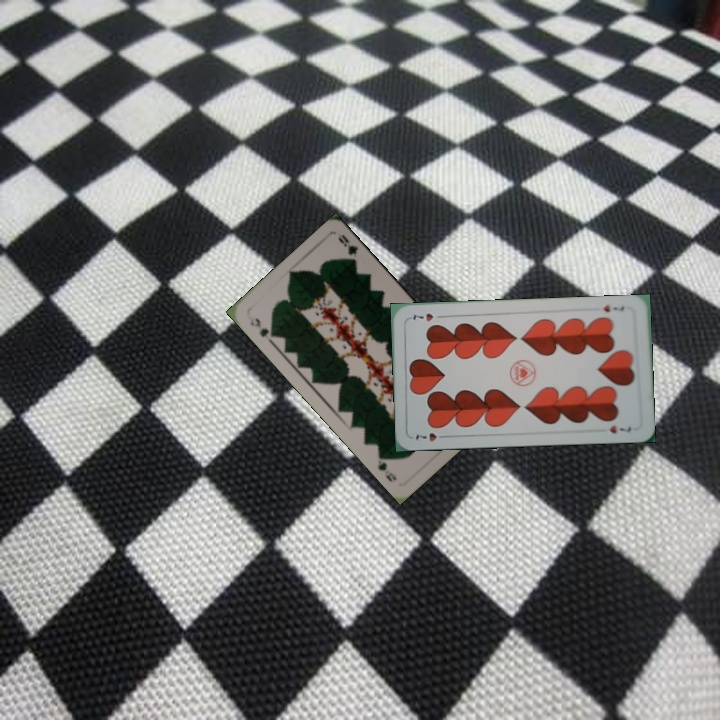G9: (244, 312, 279, 345)
H7: (412, 429, 450, 445), (599, 301, 626, 314)
